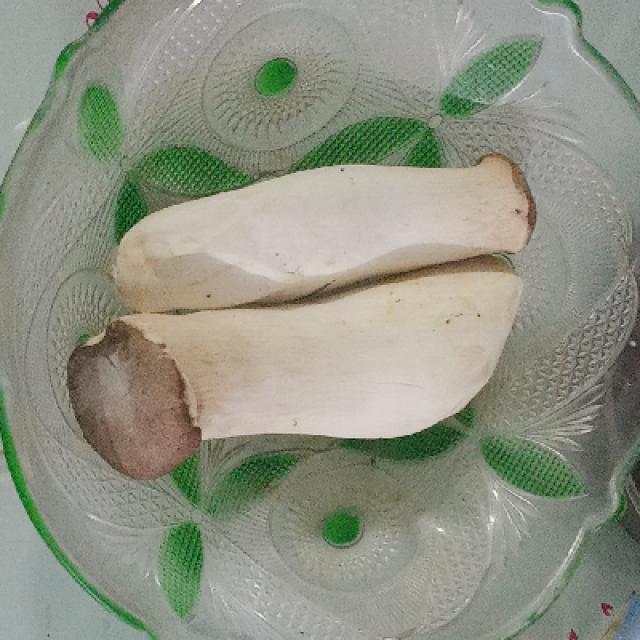Pleurotus eryngii: (66, 156, 537, 478)
